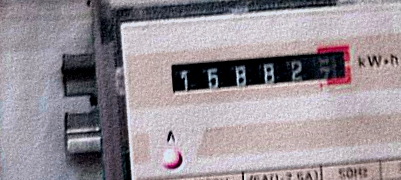1: (177, 68, 193, 91)
2: (287, 58, 305, 84)
5: (204, 65, 221, 91)
7: (318, 63, 331, 81)
8: (260, 61, 277, 86), (232, 64, 248, 88)
screen: (160, 37, 362, 111)
